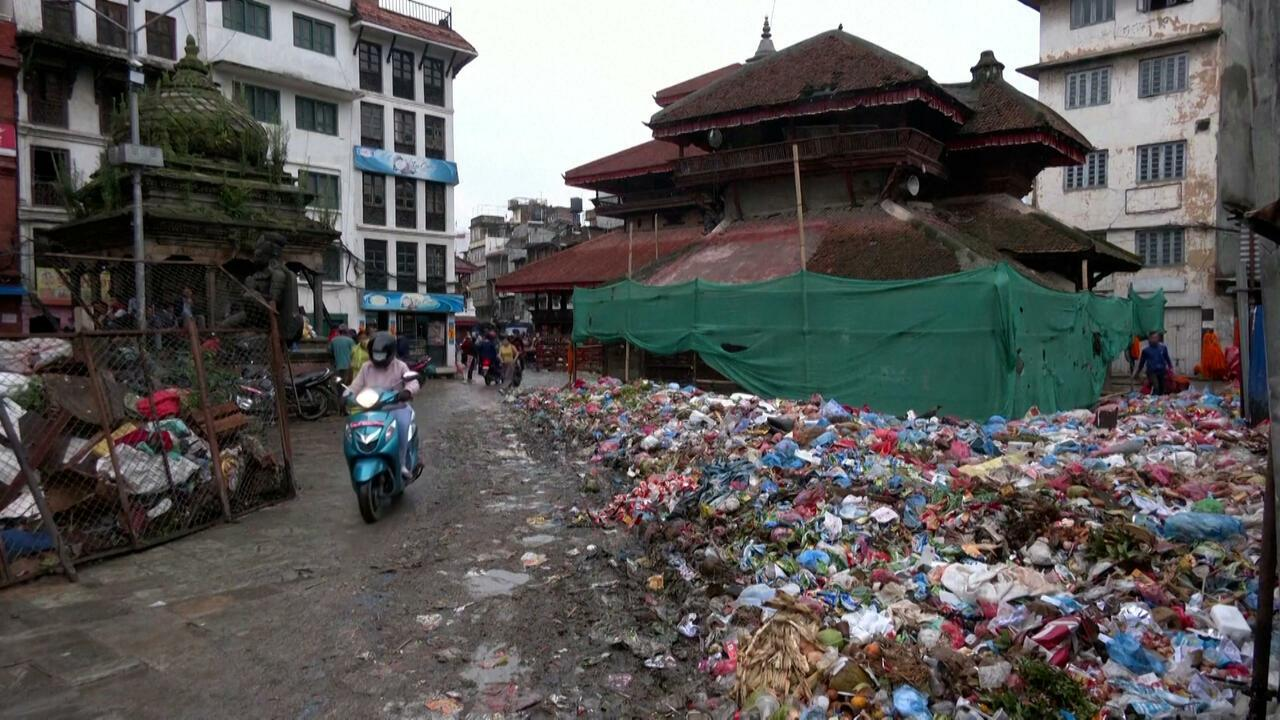garbage: (489, 359, 1280, 720)
